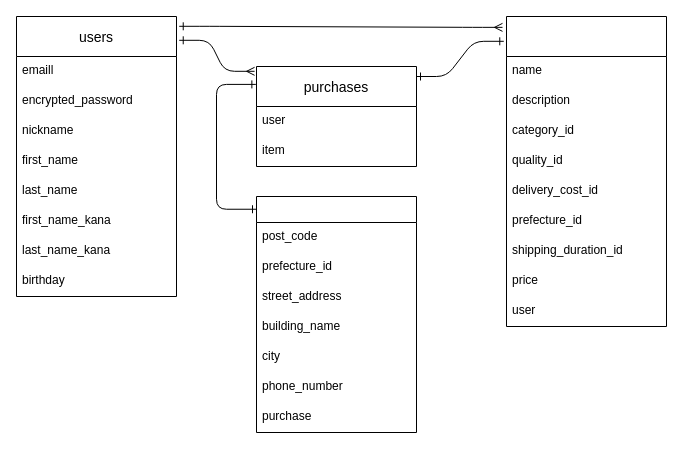
This 683x449 diagram has some shape labels left out. Each missing label, with the box of its shape:
customers: (256, 196, 416, 432)
items: (506, 16, 666, 326)
